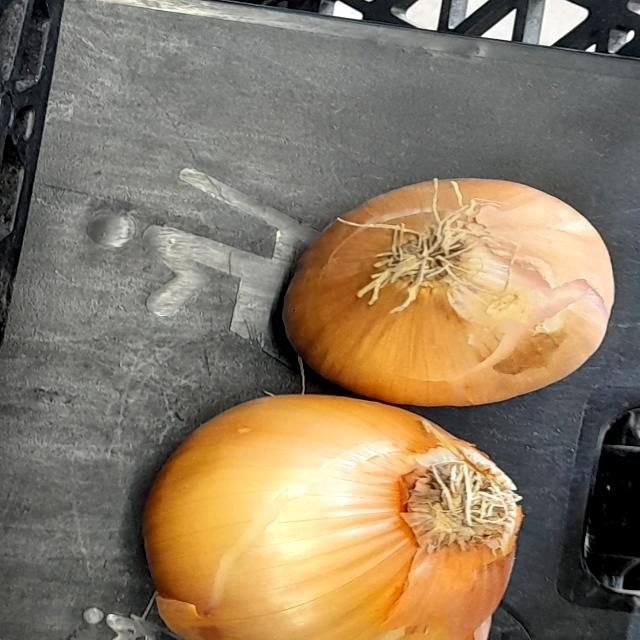onion: (118, 370, 559, 640), (265, 150, 620, 408)
